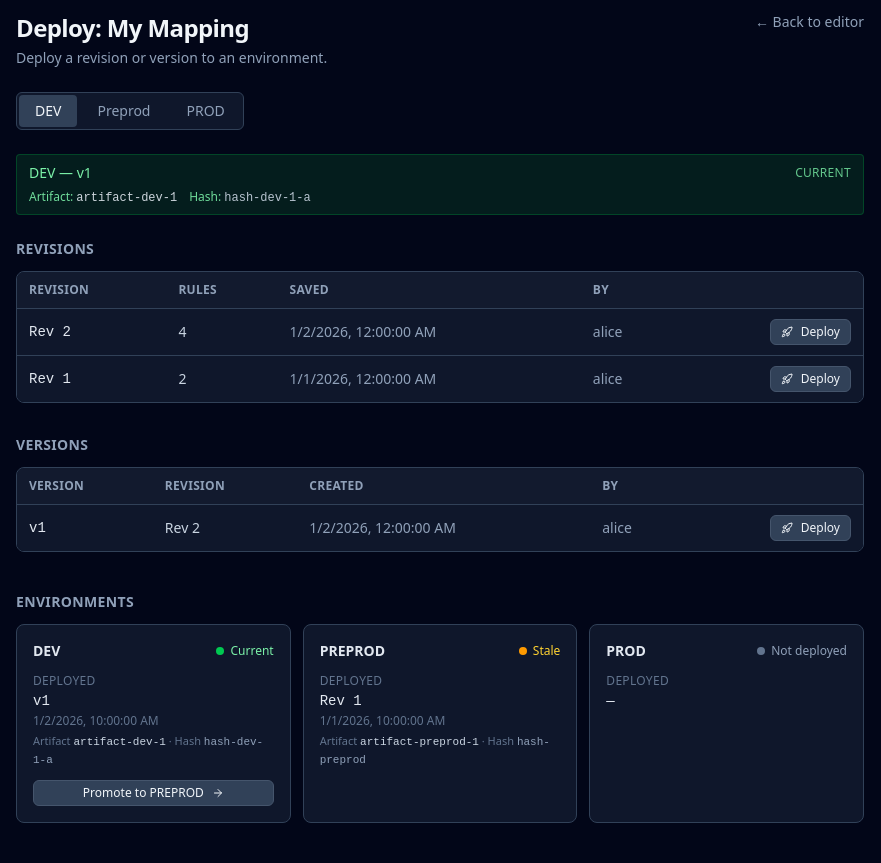
T-06: Promote button visibility (AE-07) › shows success banner after promote
Click the button with test id "promote-btn-DEV" at (153, 793), box [33,780,274,806]
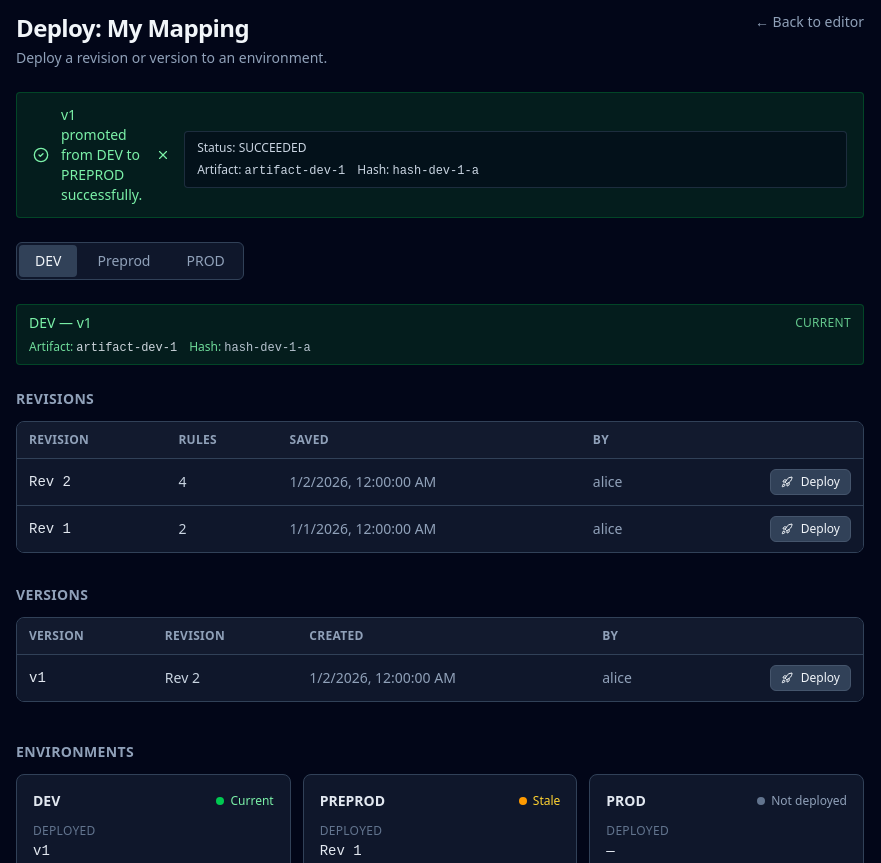
Now the message with test id "deploy-success-banner" is shown, box [16,92,864,218]
Now the message with test id "deploy-success-banner" shows "promoted", box [61,105,142,204]
